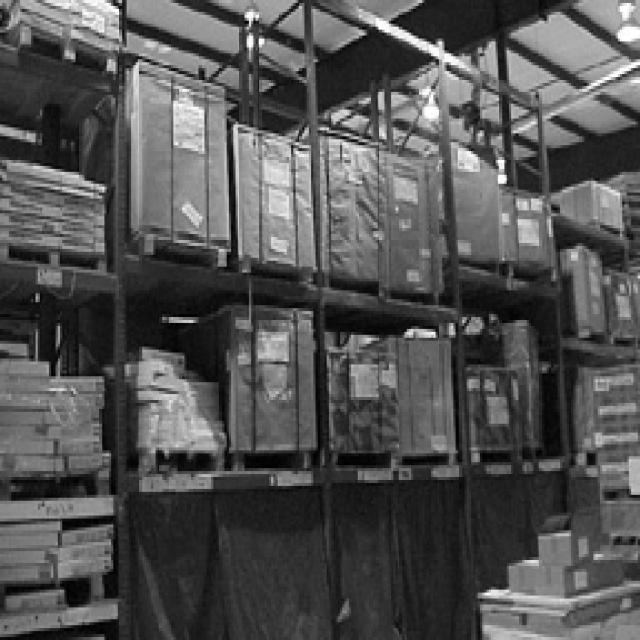ceiling beam: (120, 0, 640, 166)
package: (82, 56, 229, 243), (320, 127, 444, 293), (178, 302, 318, 444), (482, 524, 640, 637), (4, 335, 107, 498), (102, 347, 229, 447), (4, 154, 107, 261), (469, 317, 544, 450), (4, 516, 116, 604), (596, 359, 640, 581), (604, 169, 640, 344), (560, 240, 609, 332), (562, 178, 627, 225)
pallet: (104, 444, 227, 471)
shelves crop: (4, 0, 640, 637)
wall clock: (516, 119, 640, 240), (4, 113, 82, 172)
